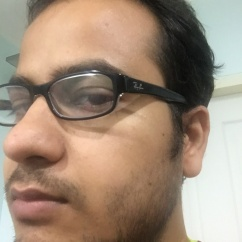glasses: (4, 71, 188, 122)
